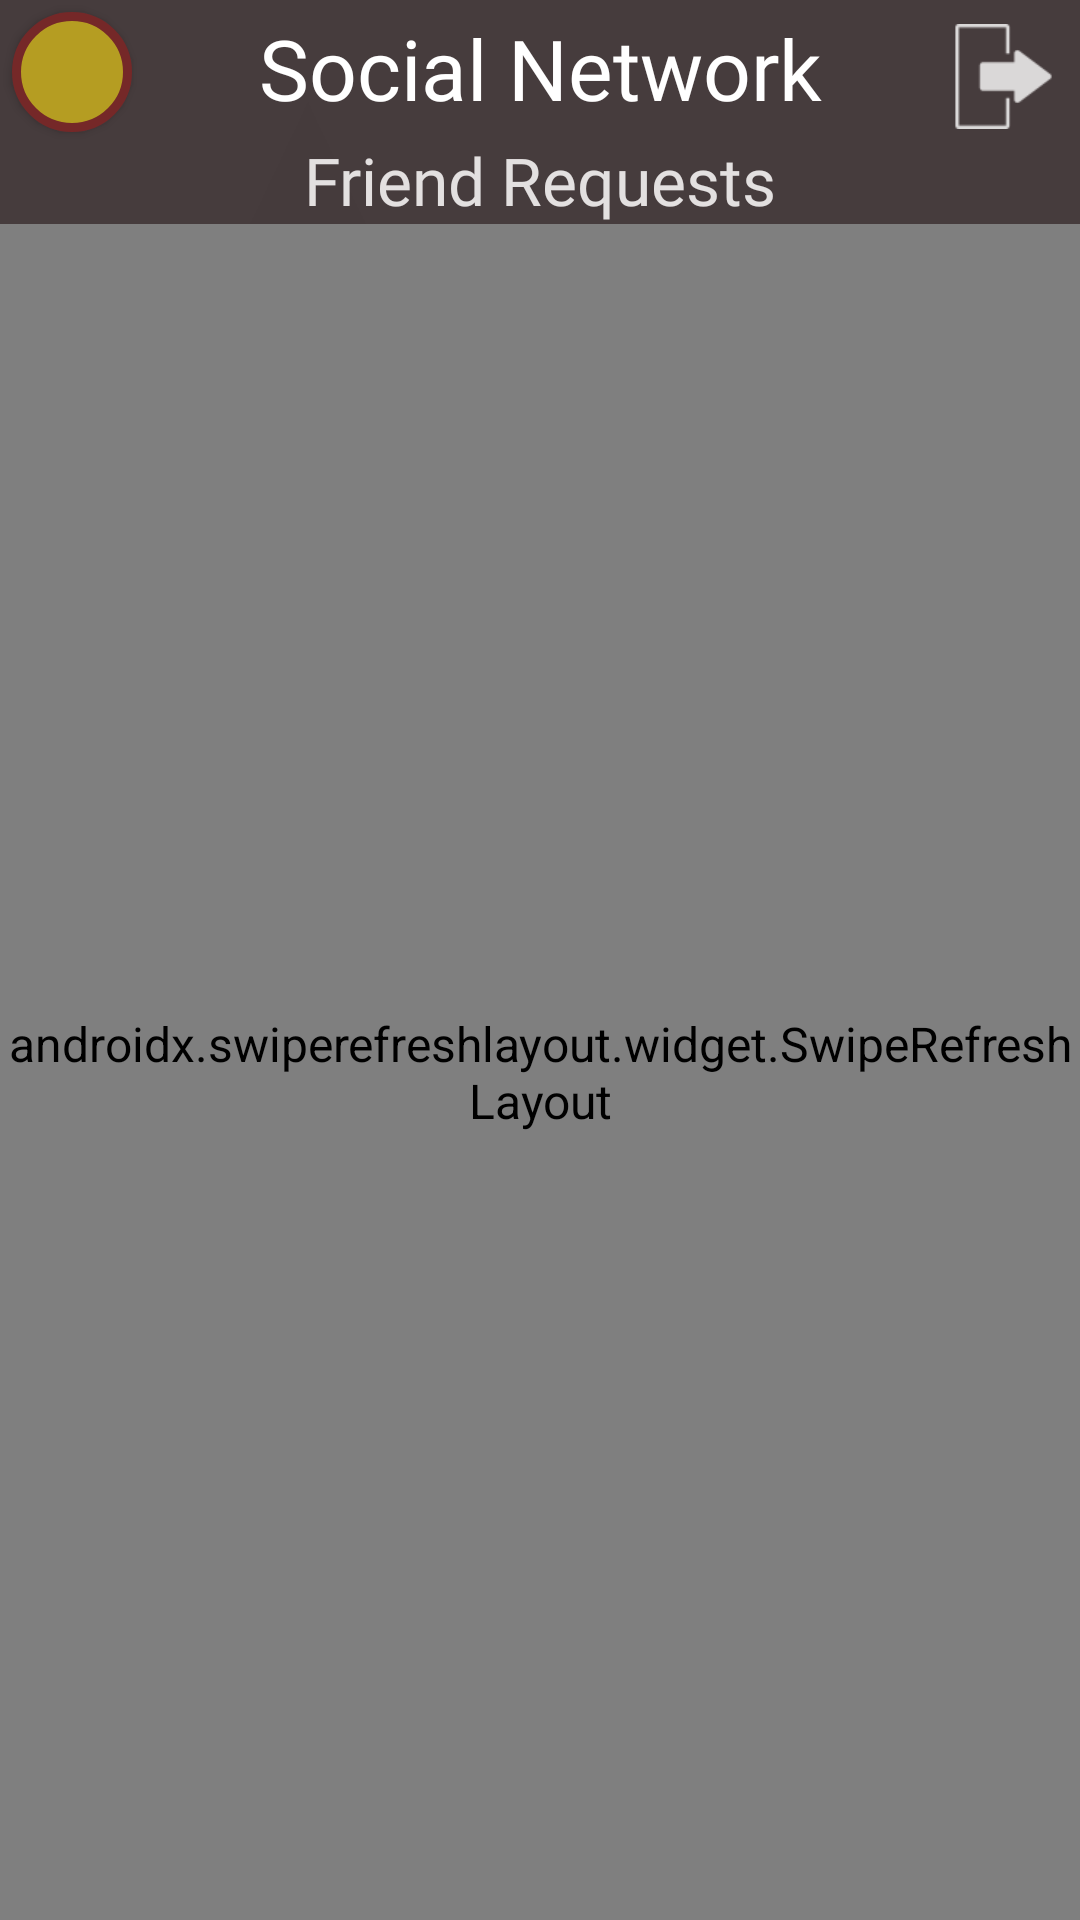

Point at icon controls on the screen. Image size 1080 × 1920, points as [x,y].
log out: [1003,76]
